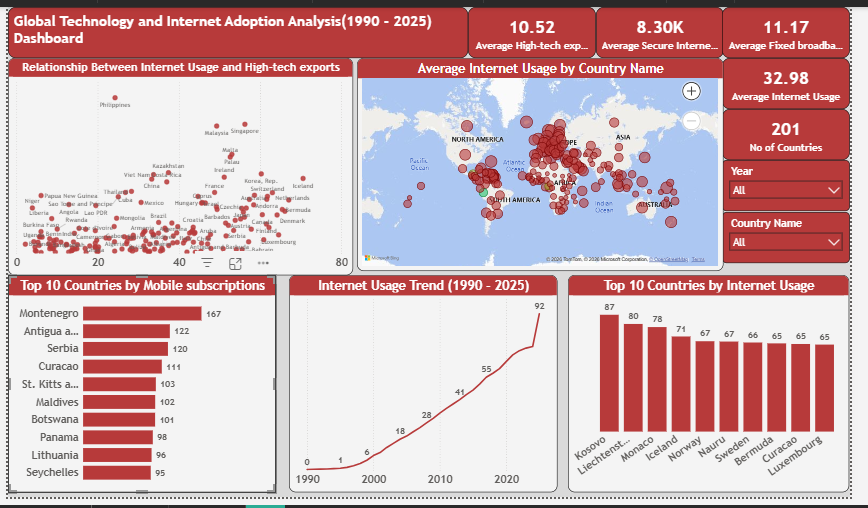

What the dashboard file says about the page in this screenshot:
{"tool":"powerbi","page":{"name":"Page 2","canvas":[1580,920],"ordinal":1},"visuals":[{"type":"textbox","box":[0,0,864,96],"z":0},{"type":"card","fields":{"Values":["MEASURES (2).Avg Secure Internet servers"]},"box":[1104,0,240,96],"z":1000},{"type":"card","fields":{"Values":["MEASURES (2).Avg Fixed broadband subscriptions"]},"box":[1340,0,240,96],"z":2000},{"type":"card","fields":{"Values":["MEASURES (2).Average Internet Usage"]},"box":[1340,96,240,96],"z":3000},{"type":"card","fields":{"Values":["MEASURES (2).High-tech exports"]},"box":[864,0,240,96],"z":4000},{"type":"card","fields":{"Values":["MEASURES (2).No of Countries"]},"box":[1340,192,240,96],"z":5000},{"type":"lineChart","title":"Internet Usage Trend (1990 - 2025)","fields":{"Category":["WDICSV (2).Year"],"Y":["MEASURES (2).Average Internet Usage"]},"box":[528,504,504,408],"z":6000},{"type":"columnChart","title":"Top 10 Countries by Internet Usage ","fields":{"Category":["WDICSV (2).Country Name"],"Y":["MEASURES (2).Average Internet Usage"]},"box":[1052,504,528,408],"z":7000},{"type":"scatterChart","title":"Relationship Between Internet Usage and High-tech exports","fields":{"X":["MEASURES (2).Average Internet Usage"],"Y":["MEASURES (2).High-tech exports"],"Category":["WDICSV (2).Country Name"]},"box":[0,96,648,408],"z":8000},{"type":"slicer","fields":{"Values":["WDICSV (2).Year"]},"box":[1340,288,240,96],"z":9000},{"type":"slicer","fields":{"Values":["WDICSV (2).Country Name"]},"box":[1340,384,240,96],"z":10000},{"type":"map","fields":{"Category":["WDICSV (2).Country Name"],"Size":["MEASURES (2).Average Internet Usage"]},"box":[656,96,688,400],"z":11000},{"type":"barChart","title":"Top 10 Countries by Mobile subscriptions","fields":{"Y":["MEASURES (2).Average Mobile subscriptions"],"Category":["WDICSV (2).Country Name"]},"box":[0,504,504,408],"z":12000}]}

Visuals, with their boxes in screenshot pixels (x1, y1, x2, y2), scaled from the page's 1580x920 canvas onto the 868x508 screenshot:
textbox: bbox(0, 0, 475, 53)
card - MEASURES (2).Avg Secure Internet servers: bbox(607, 0, 738, 53)
card - MEASURES (2).Avg Fixed broadband subscriptions: bbox(736, 0, 867, 53)
card - MEASURES (2).Average Internet Usage: bbox(736, 53, 867, 106)
card - MEASURES (2).High-tech exports: bbox(475, 0, 607, 53)
card - MEASURES (2).No of Countries: bbox(736, 106, 867, 159)
"Internet Usage Trend (1990 - 2025)" lineChart: bbox(290, 278, 567, 504)
"Top 10 Countries by Internet Usage " columnChart: bbox(578, 278, 867, 504)
"Relationship Between Internet Usage and High-tech exports" scatterChart: bbox(0, 53, 356, 278)
slicer - WDICSV (2).Year: bbox(736, 159, 867, 212)
slicer - WDICSV (2).Country Name: bbox(736, 212, 867, 265)
map - WDICSV (2).Country Name x MEASURES (2).Average Internet Usage: bbox(360, 53, 738, 274)
"Top 10 Countries by Mobile subscriptions" barChart: bbox(0, 278, 277, 504)
